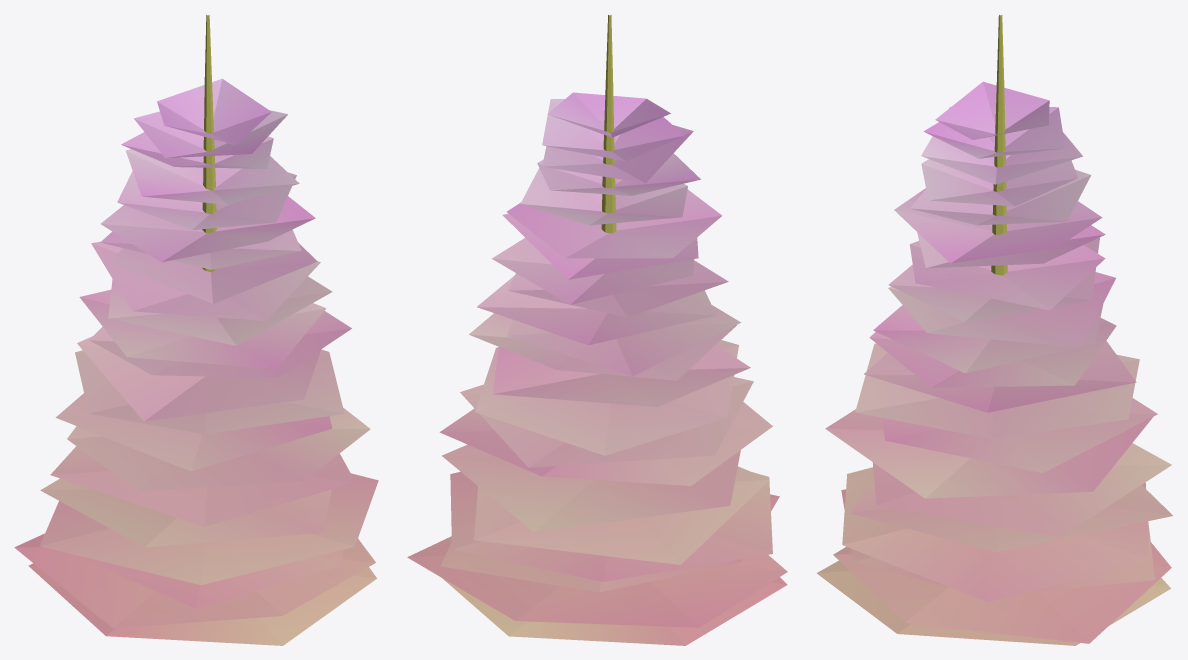
The model's file is tree_spruce_1.glb.
3 views of the same model, side by side, from view 1: azimuth 30°, elevation 25°; view 2: azimuth 150°, elevation 25°; view 3: azimuth 270°, elevation 25° (orthographic).
Visible parts, largest first — view 1: tree_spruce_1; view 2: tree_spruce_1; view 3: tree_spruce_1.
Boxes of the visible parts, x1,y1,x2,y2 form: tree_spruce_1: [14, 15, 378, 645]; tree_spruce_1: [407, 15, 787, 645]; tree_spruce_1: [816, 15, 1172, 645].
Size of the model in its own units: 6.85 by 11.3 by 6.36.
